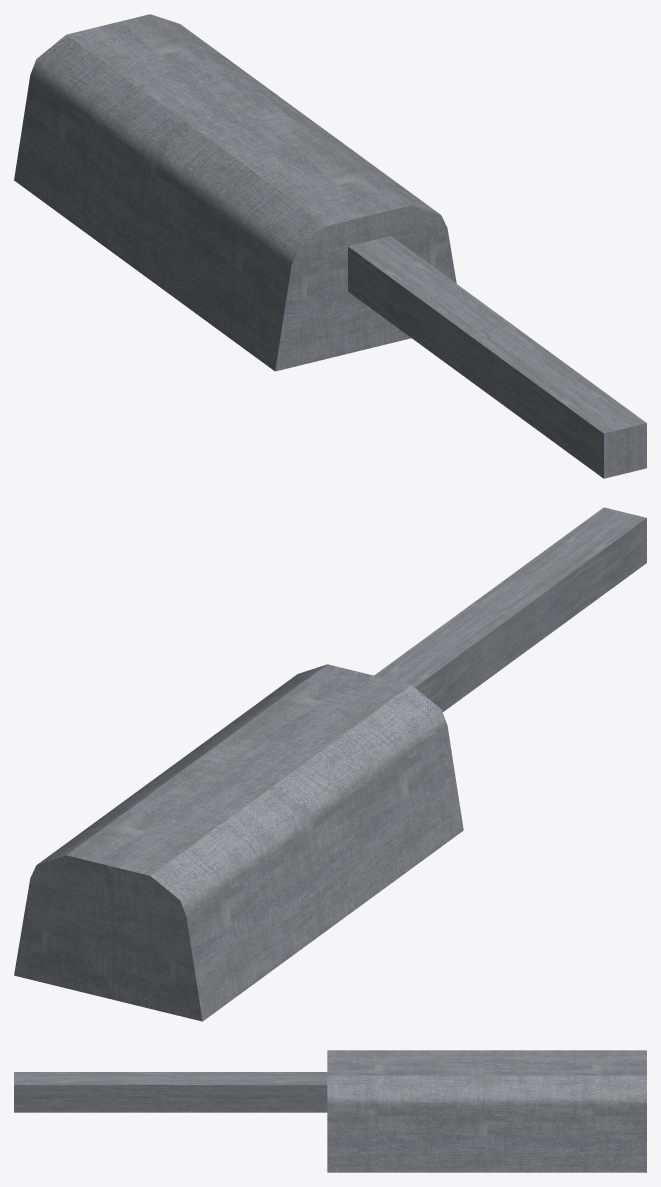
Rendered from Lights.fbx.
The picture shows the model from 3 angles, top to bottom: view 1: azimuth 30°, elevation 25°; view 2: azimuth 150°, elevation 25°; view 3: azimuth 270°, elevation 25°; orthographic projection. The views are drawn at different scales.
Visible parts, largest first — view 1: Light1; view 2: Light1; view 3: Light1.
Boxes of the visible parts, left/top/right/bottom form: Light1: left=14, top=14, right=646, bottom=478; Light1: left=14, top=507, right=646, bottom=1021; Light1: left=14, top=1050, right=646, bottom=1172.
Size of the model in its own units: 4.37 by 2.95 by 20.76.
2 materials, 1 textured.
